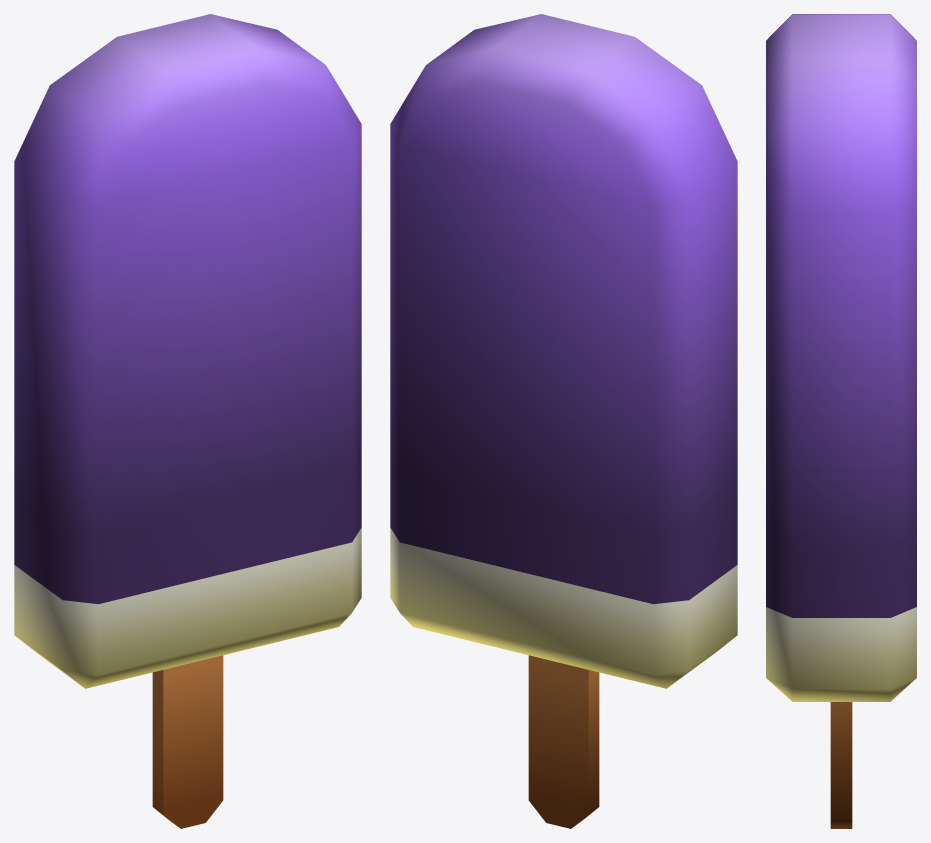
The model's file is m_SimplePopsicle10.fbx.
The picture shows the model from 3 angles, left to right: view 1: azimuth 30°, elevation 25°; view 2: azimuth 150°, elevation 25°; view 3: azimuth 270°, elevation 25°; orthographic projection.
Visible parts, largest first — view 1: m_SimplePopsicle10; view 2: m_SimplePopsicle10; view 3: m_SimplePopsicle10.
Part boxes in pixels (box(x1,y1,x2,y2)): m_SimplePopsicle10: box(14, 14, 361, 828); m_SimplePopsicle10: box(390, 14, 737, 828); m_SimplePopsicle10: box(766, 14, 916, 828).
Size of the model in its own units: 9.24 by 22.99 by 4.
